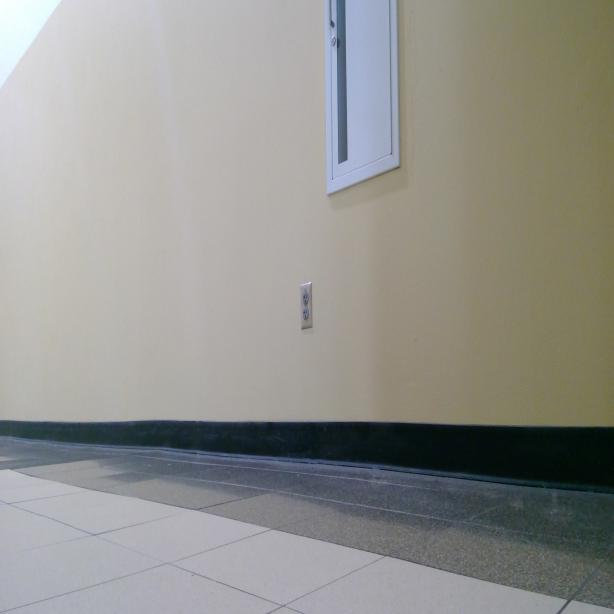typeb: (302, 292, 310, 304), (302, 308, 310, 320)
